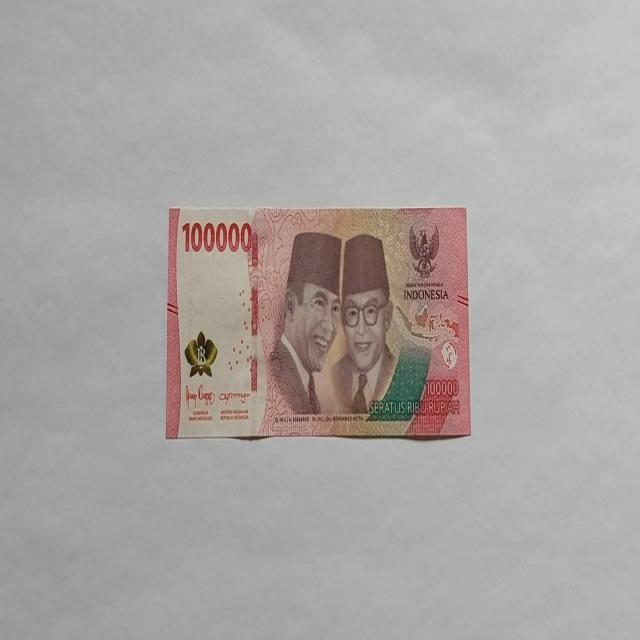seratus ribu rupiah: (165, 204, 471, 441)
